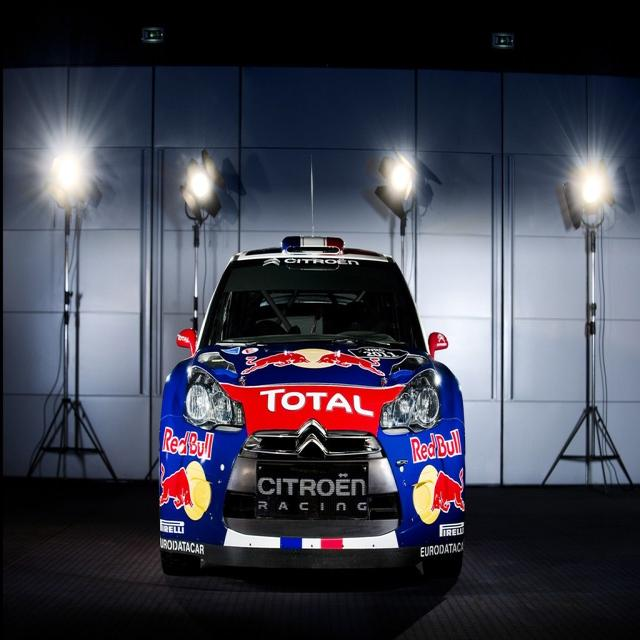car: (157, 150, 464, 594)
